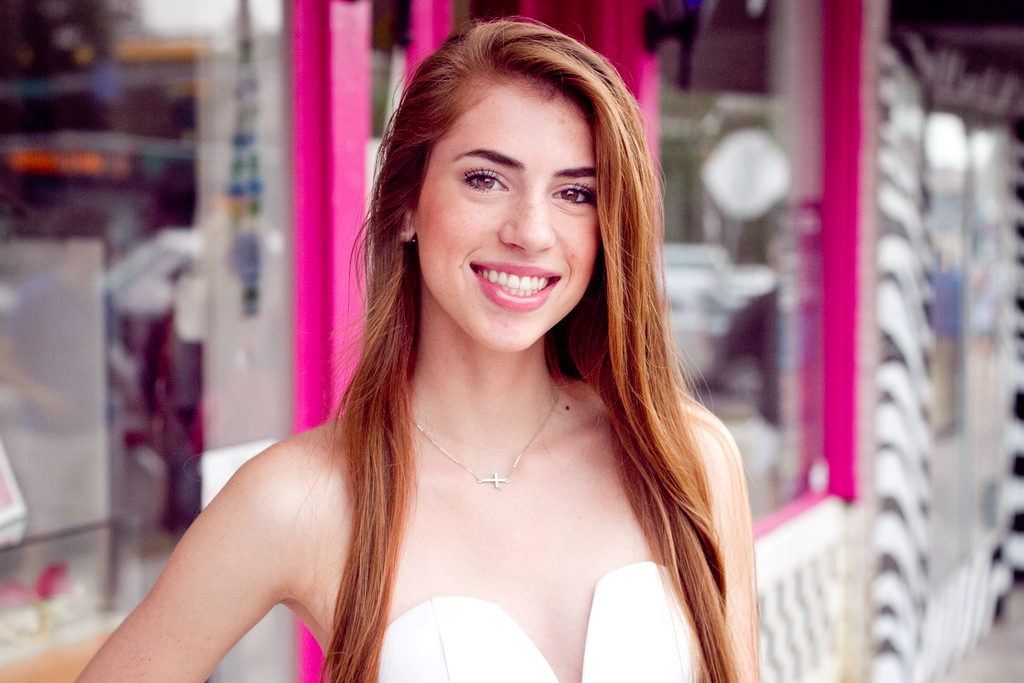person: (99, 180, 203, 410)
